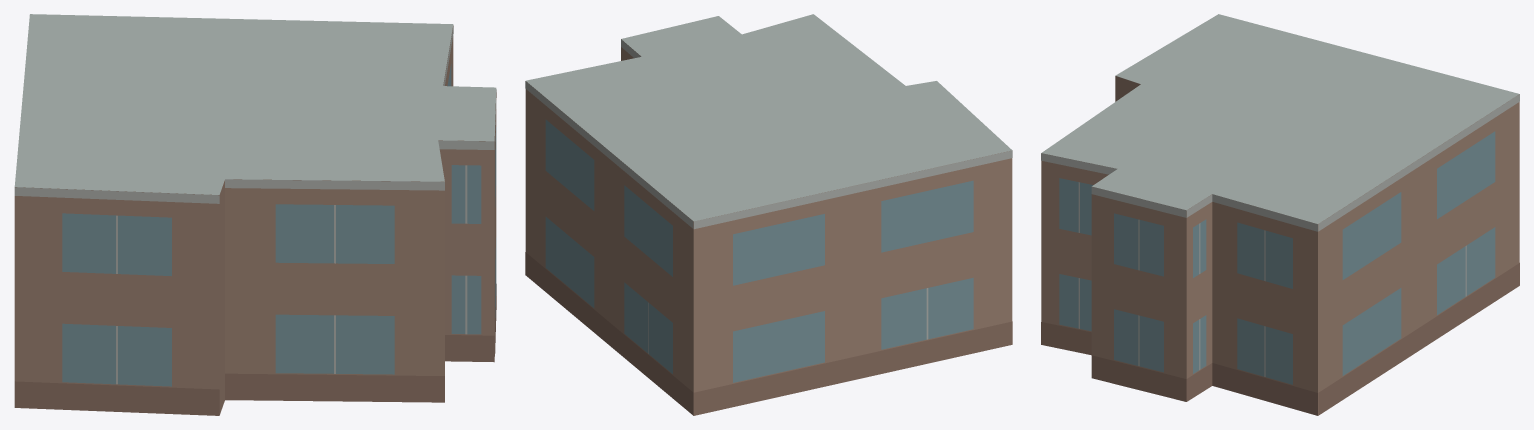
The model's file is survey-upis-32583729.glb.
The picture shows the model from 3 angles, left to right: view 1: azimuth 30°, elevation 25°; view 2: azimuth 150°, elevation 25°; view 3: azimuth 270°, elevation 25°; orthographic projection. The views are drawn at different scales.
Visible parts, largest first — view 1: survey-upis-32583729.tmp; view 2: survey-upis-32583729.tmp; view 3: survey-upis-32583729.tmp.
Part boxes in pixels (<box>): survey-upis-32583729.tmp: <box>14,14,496,415</box>; survey-upis-32583729.tmp: <box>525,14,1012,415</box>; survey-upis-32583729.tmp: <box>1041,14,1519,415</box>.
Size of the model in its own units: 14.35 by 6.1 by 13.81.
